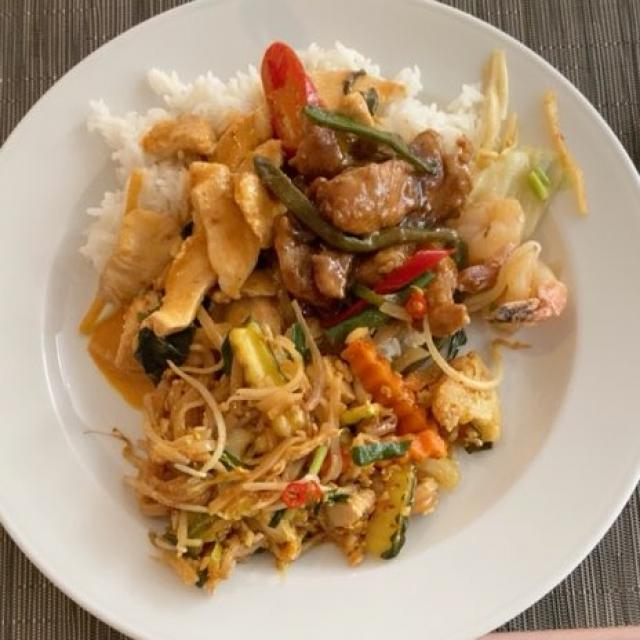chicken-curry-cream-coconut-milk-curry-spices-paste: (84, 43, 582, 384)
mixed-vegetables: (222, 68, 460, 562)
rice: (89, 41, 486, 273)
rice-noodles-vermicelli: (146, 358, 454, 590)
